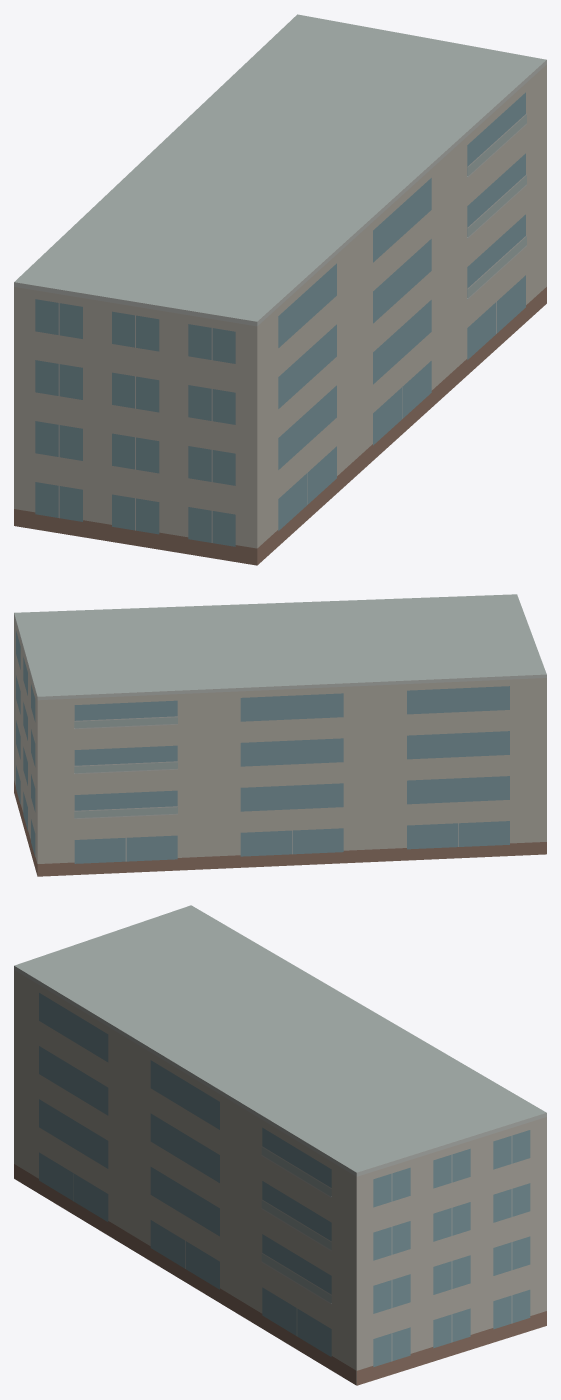
File: survey-upis-32802299.glb
The picture shows the model from 3 angles, top to bottom: view 1: azimuth 30°, elevation 25°; view 2: azimuth 150°, elevation 25°; view 3: azimuth 270°, elevation 25°; orthographic projection. The views are drawn at different scales.
Visible parts, largest first — view 1: survey-upis-32802299.tmp; view 2: survey-upis-32802299.tmp; view 3: survey-upis-32802299.tmp.
Boxes of the visible parts, x1,y1,x2,y2 form: survey-upis-32802299.tmp: [14, 14, 546, 565]; survey-upis-32802299.tmp: [14, 594, 546, 876]; survey-upis-32802299.tmp: [14, 905, 546, 1385].
Bounding box in the file's own units: 34.22 × 12.7 × 28.8.
